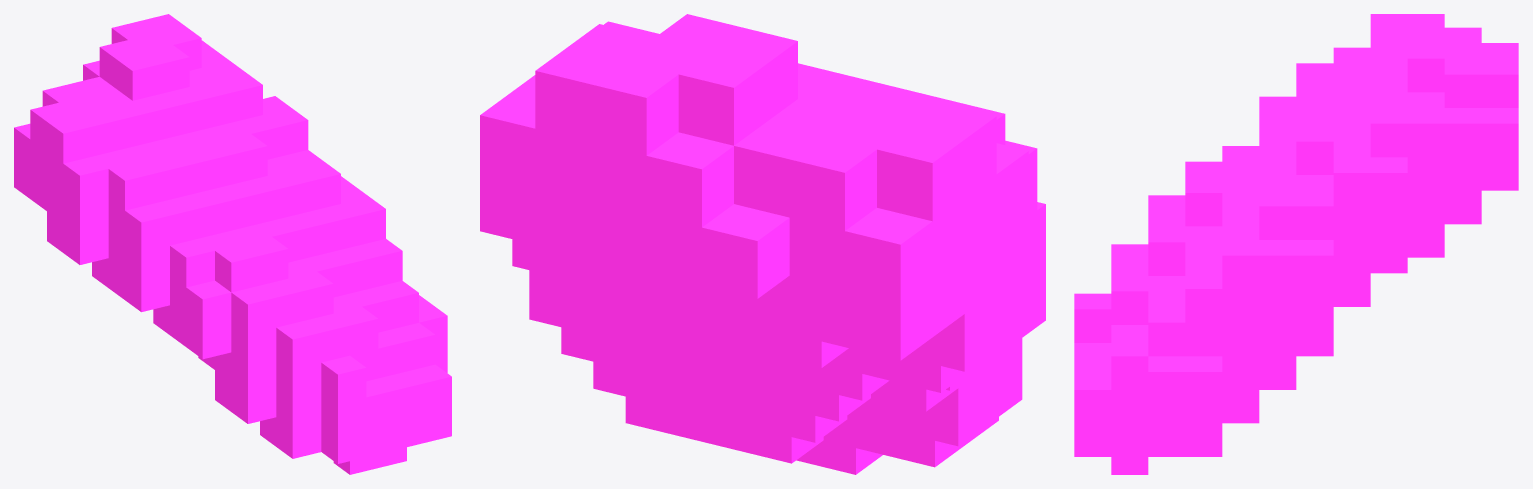
File: tongue.gltf
3 renders of one model, left to right at view 1: azimuth 30°, elevation 25°; view 2: azimuth 150°, elevation 25°; view 3: azimuth 270°, elevation 25°, orthographic. The views are drawn at different scales.
Visible parts, largest first — view 1: 舌头.1; view 2: 舌头.1; view 3: 舌头.1.
Boxes of the visible parts, <box> form: 舌头.1: <box>14,14,451,474</box>; 舌头.1: <box>480,14,1045,474</box>; 舌头.1: <box>1074,14,1518,474</box>.
Size of the model in its own units: 1.2 by 1.32 by 1.44.
